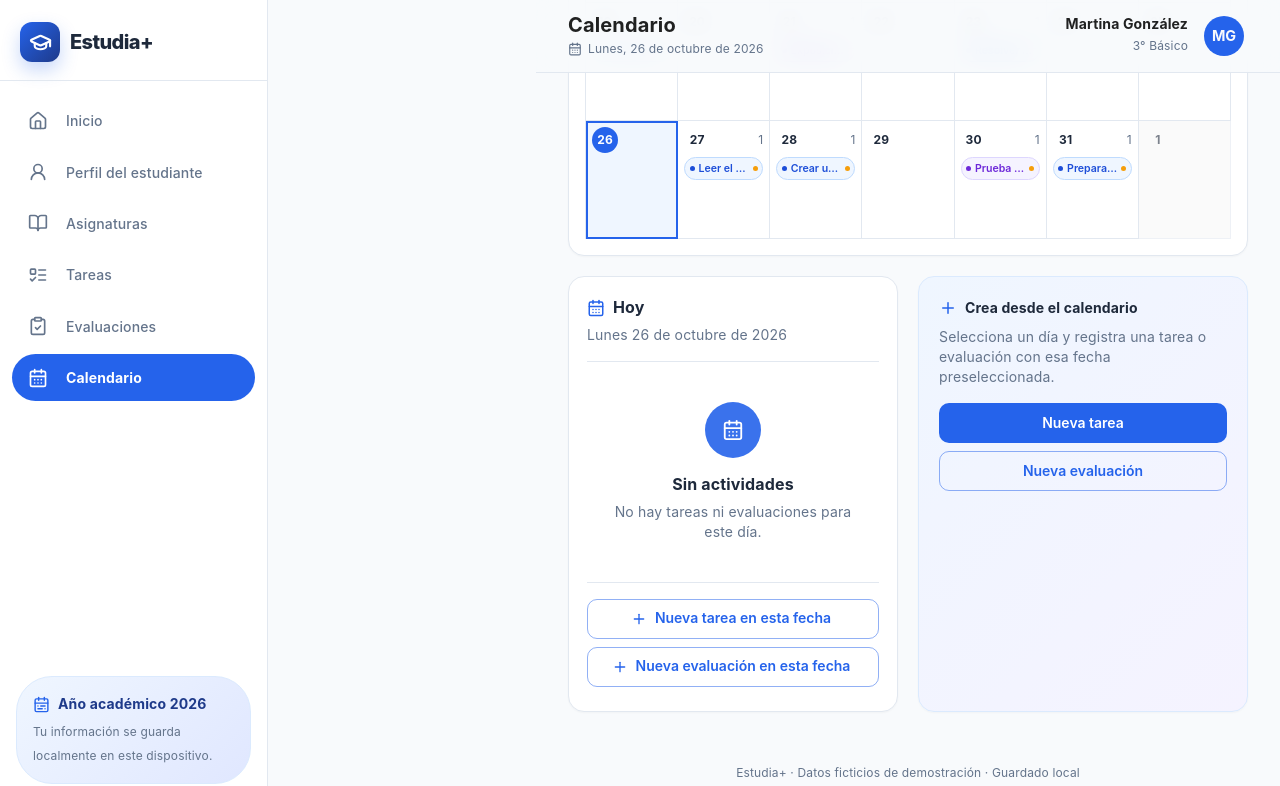
Test: calendario académico › crea una tarea desde el calendario y la refleja al volver
(page scrolled)
Click the button "Nueva tarea en esta fecha" at (733, 618), box [587,598,879,638]
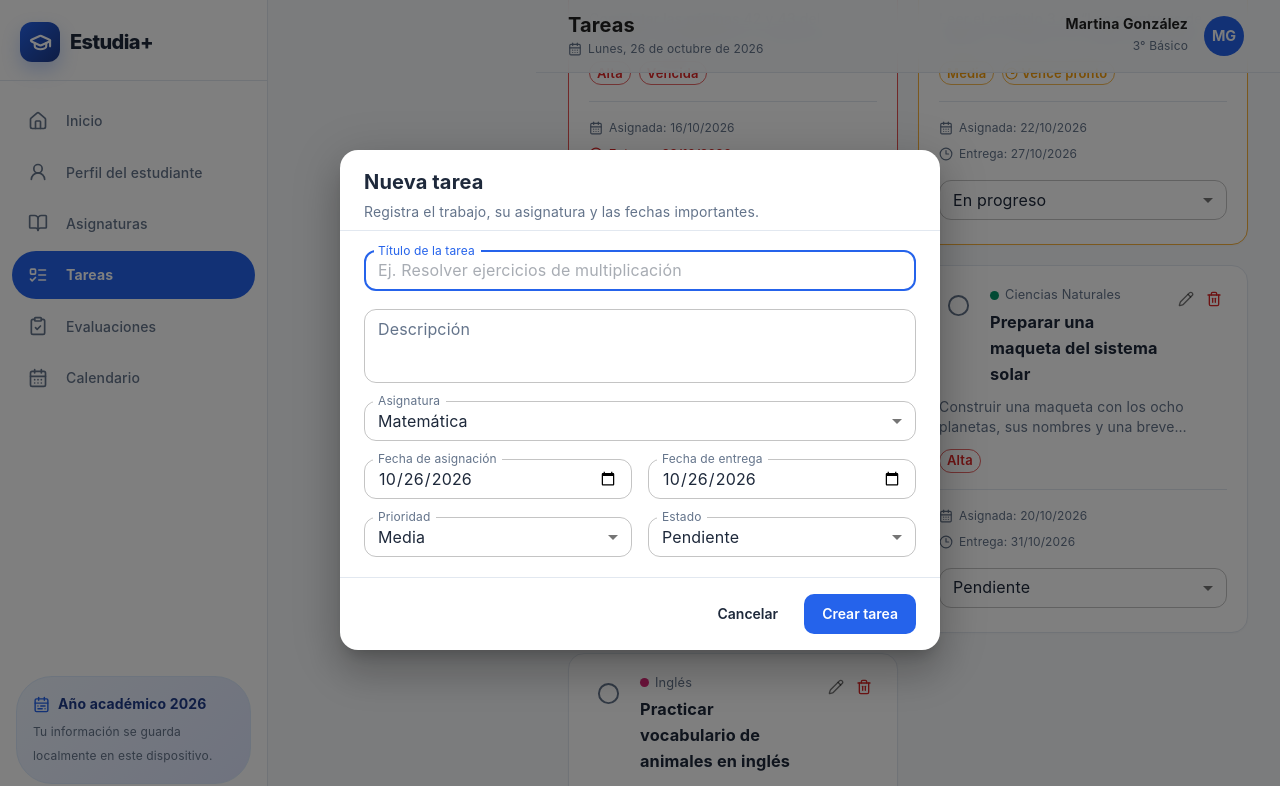
Type "Tarea creada desde el calendario" into the field labelled "Título de la tarea" at (640, 271), box [364,251,916,291]
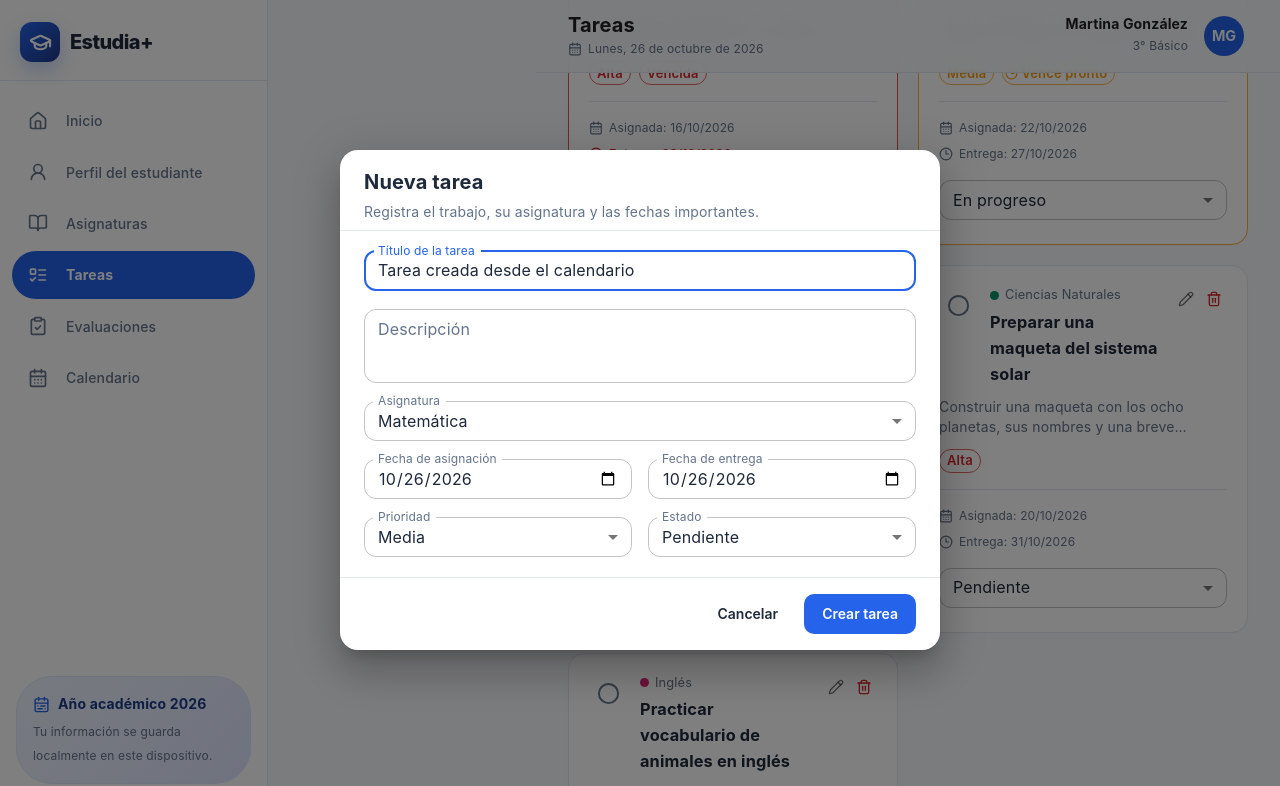
Type "Actividad registrada usando la fecha preseleccionada." into the text box labelled "Descripción" at (640, 346), box [378,317,902,375]
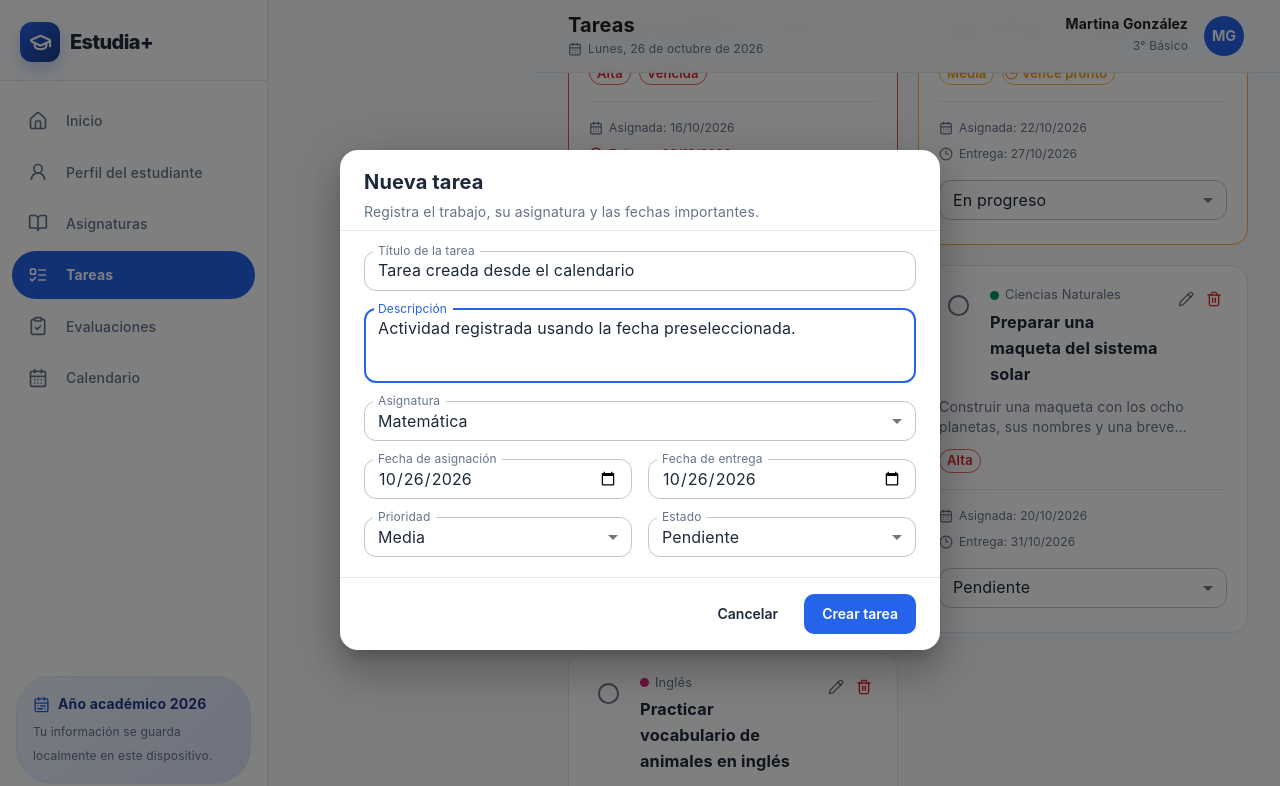
Click the button "Crear tarea" at (860, 614), box [804,594,916,634]
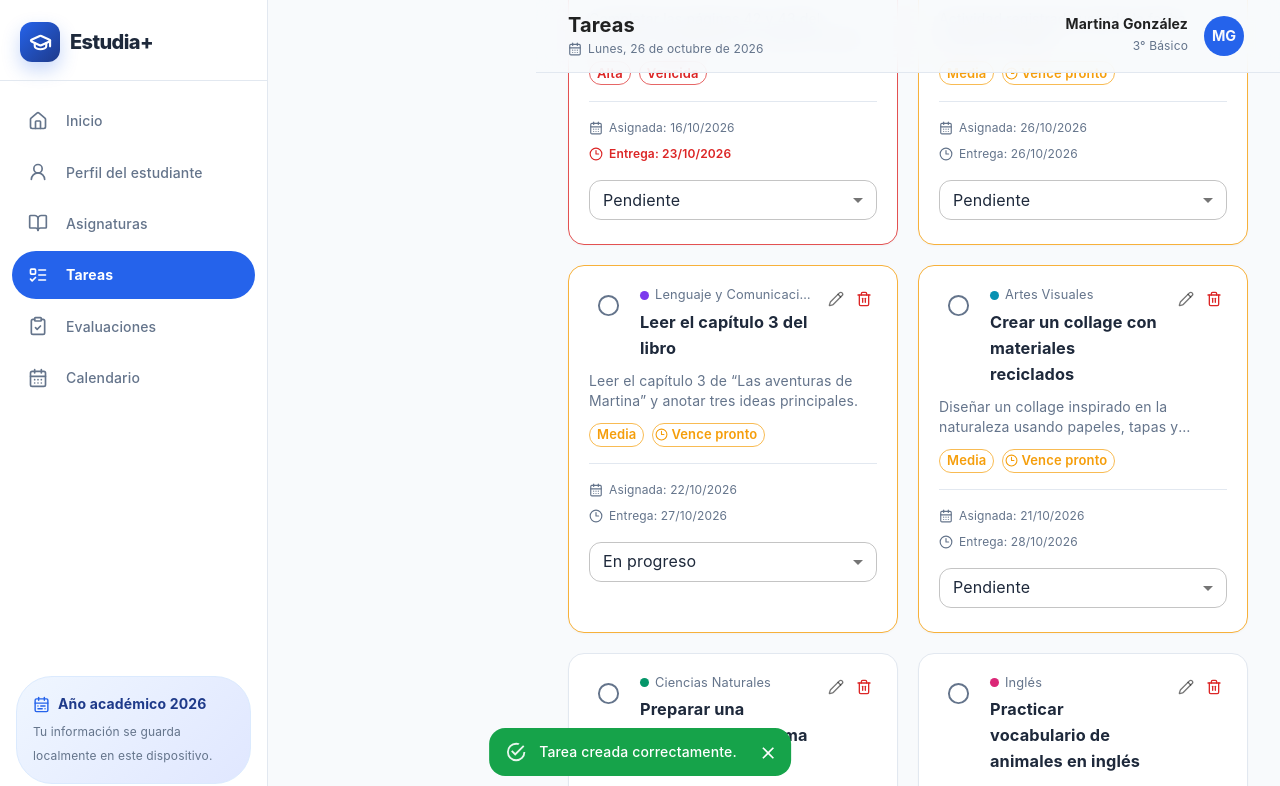
Check: the dialog is gone
Click the button "Calendario" at (84, 378), box [28,368,140,388]
(page scrolled)
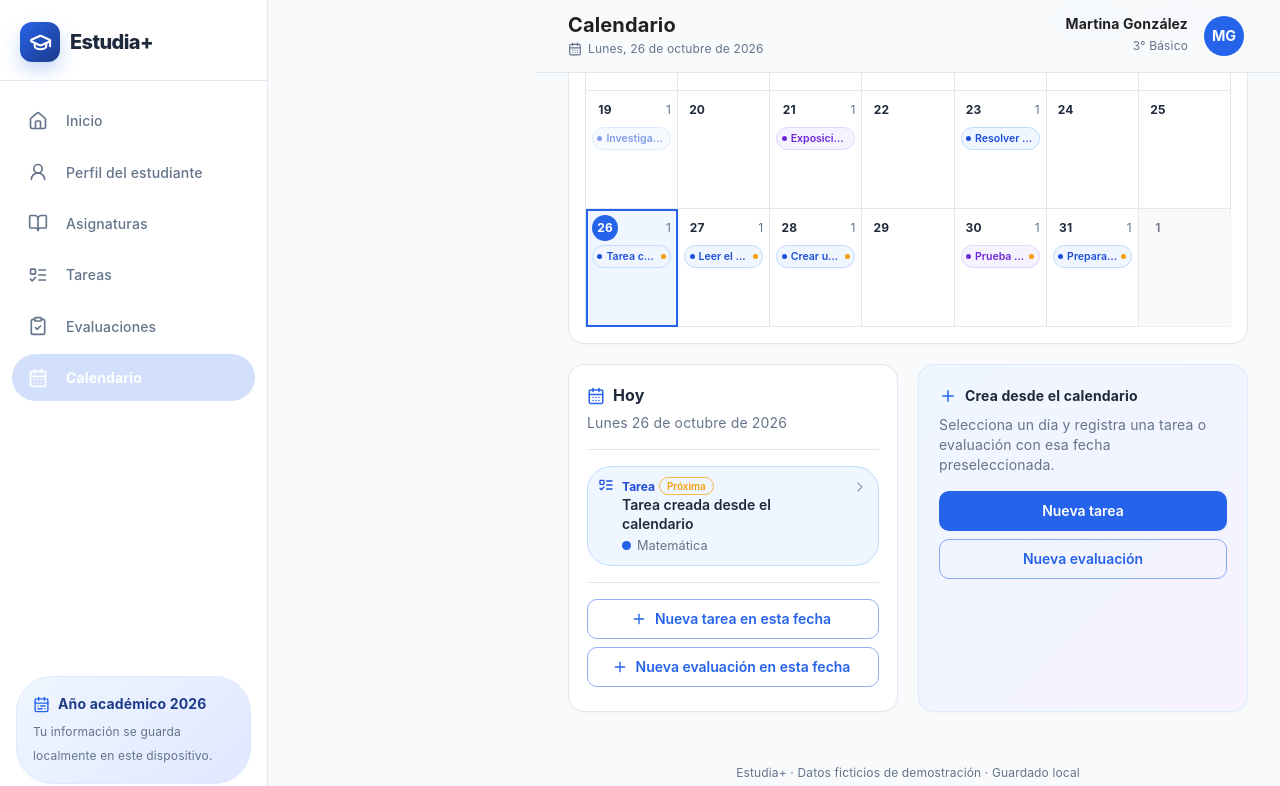
Check: the 1st text "Tarea creada desde el calendario" is shown, box [606,248,657,265]
